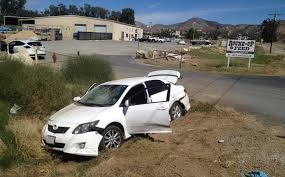Broken-glass: (77, 85, 125, 107)
Dent: (85, 124, 105, 145), (143, 120, 169, 133), (179, 90, 188, 101)
